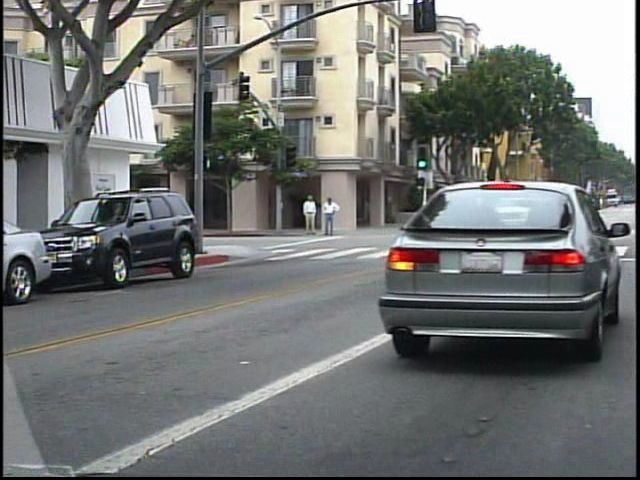person: (318, 193, 338, 239), (300, 192, 318, 237)
